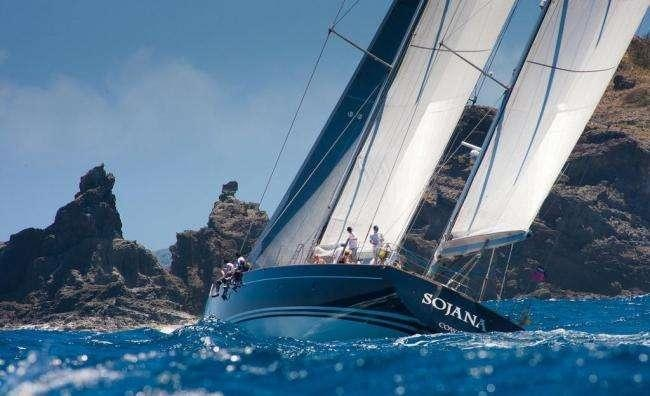fanchuan: (205, 1, 648, 340)
